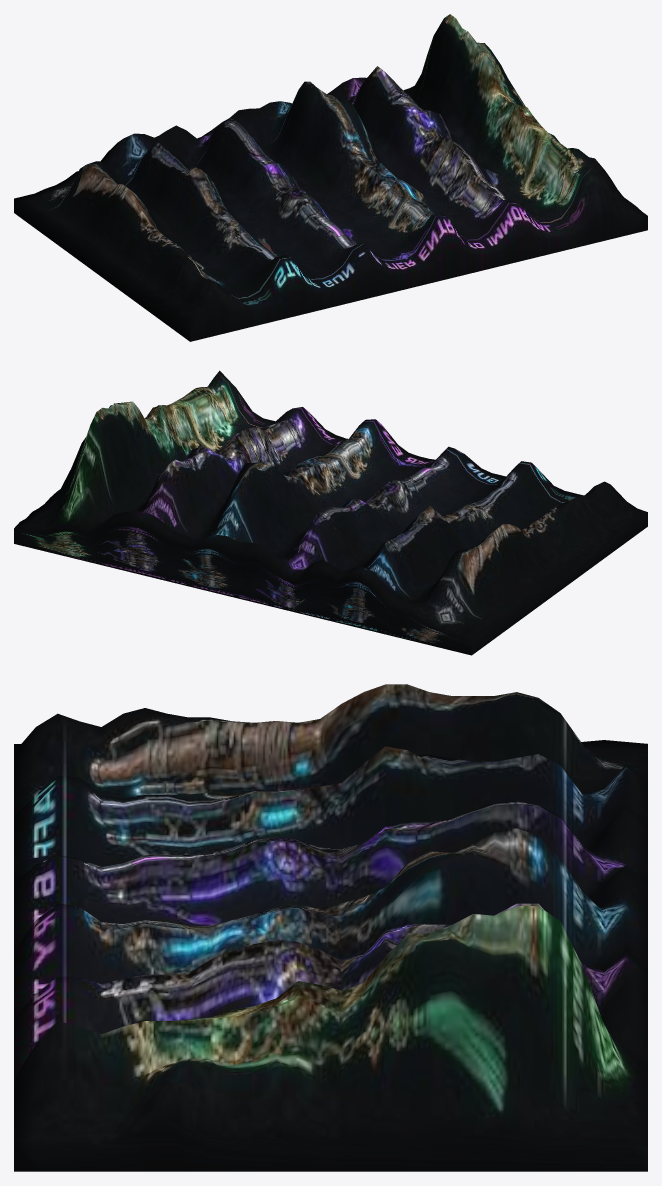
Rendered from ARSENAL_Staff_6Tier.glb.
3 renders of one model, top to bottom at view 1: azimuth 30°, elevation 25°; view 2: azimuth 150°, elevation 25°; view 3: azimuth 270°, elevation 25°, orthographic. The views are drawn at different scales.
Visible parts, largest first — view 1: ARSENAL_Staff_6Tier; view 2: ARSENAL_Staff_6Tier; view 3: ARSENAL_Staff_6Tier.
Boxes of the visible parts, <box> form: ARSENAL_Staff_6Tier: <box>14,14,647,341</box>; ARSENAL_Staff_6Tier: <box>14,370,647,655</box>; ARSENAL_Staff_6Tier: <box>14,684,647,1171</box>.
Bounding box in the file's own units: 2 × 0.51 × 1.33.
Materials: 1 (1 with a texture image).
